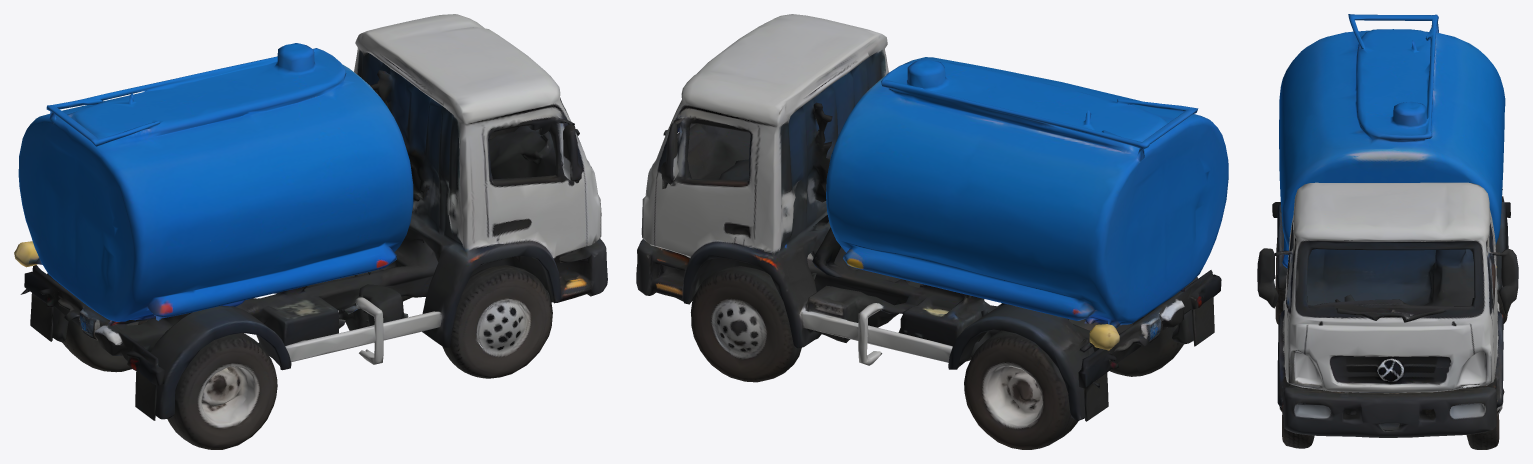
The model's file is watertanker.glb.
3 renders of one model, left to right at view 1: azimuth 30°, elevation 25°; view 2: azimuth 150°, elevation 25°; view 3: azimuth 270°, elevation 25°, orthographic. The views are drawn at different scales.
Parts seen in each view (by area): view 1: tripo_node_5d5eca7c-1ecc-4315-aa1a-d4fc440e5f8b; view 2: tripo_node_5d5eca7c-1ecc-4315-aa1a-d4fc440e5f8b; view 3: tripo_node_5d5eca7c-1ecc-4315-aa1a-d4fc440e5f8b.
Part boxes in pixels (x1,y1,x2,y2): tripo_node_5d5eca7c-1ecc-4315-aa1a-d4fc440e5f8b: (14, 14, 607, 449); tripo_node_5d5eca7c-1ecc-4315-aa1a-d4fc440e5f8b: (636, 14, 1228, 449); tripo_node_5d5eca7c-1ecc-4315-aa1a-d4fc440e5f8b: (1257, 14, 1518, 449).
Bounding box in the file's own units: 8 × 4.92 × 4.16.
Materials: 1 (1 with a texture image).
